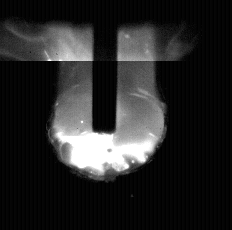arame: (93, 0, 117, 134)
poca: (51, 0, 161, 230)
